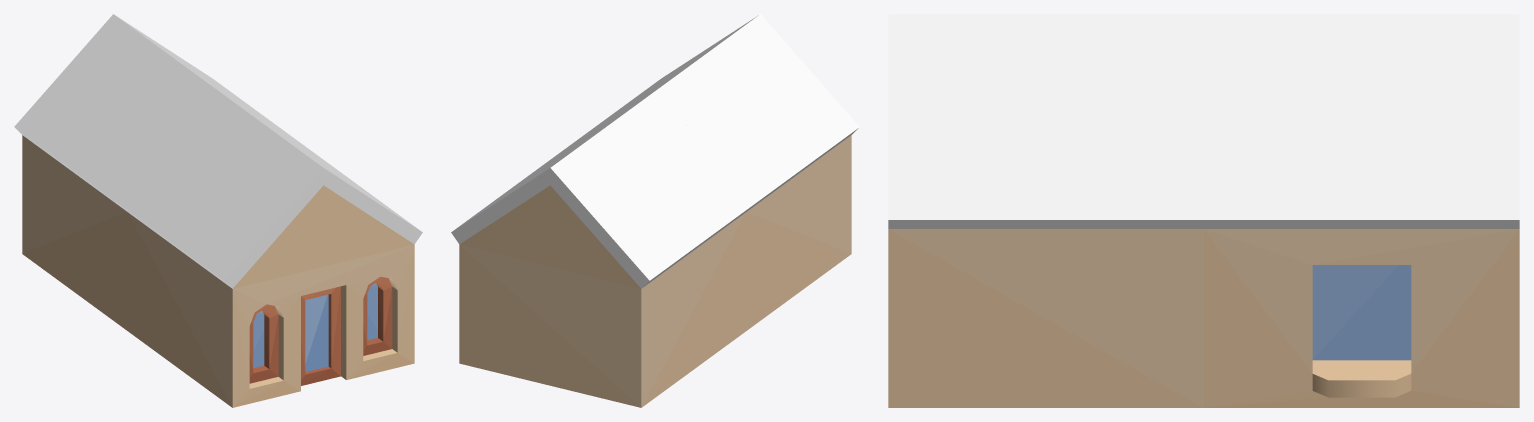
The model's file is house-a.obj.
3 views of the same model, side by side, from view 1: azimuth 30°, elevation 25°; view 2: azimuth 150°, elevation 25°; view 3: azimuth 270°, elevation 25° (orthographic). The views are drawn at different scales.
Bounding box in the file's own units: 1.1 × 1.14 × 2.
